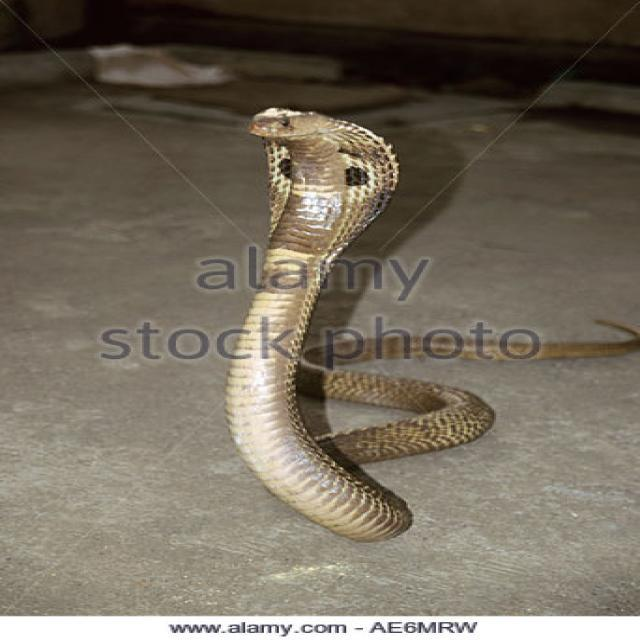Snake: (215, 103, 640, 548)
